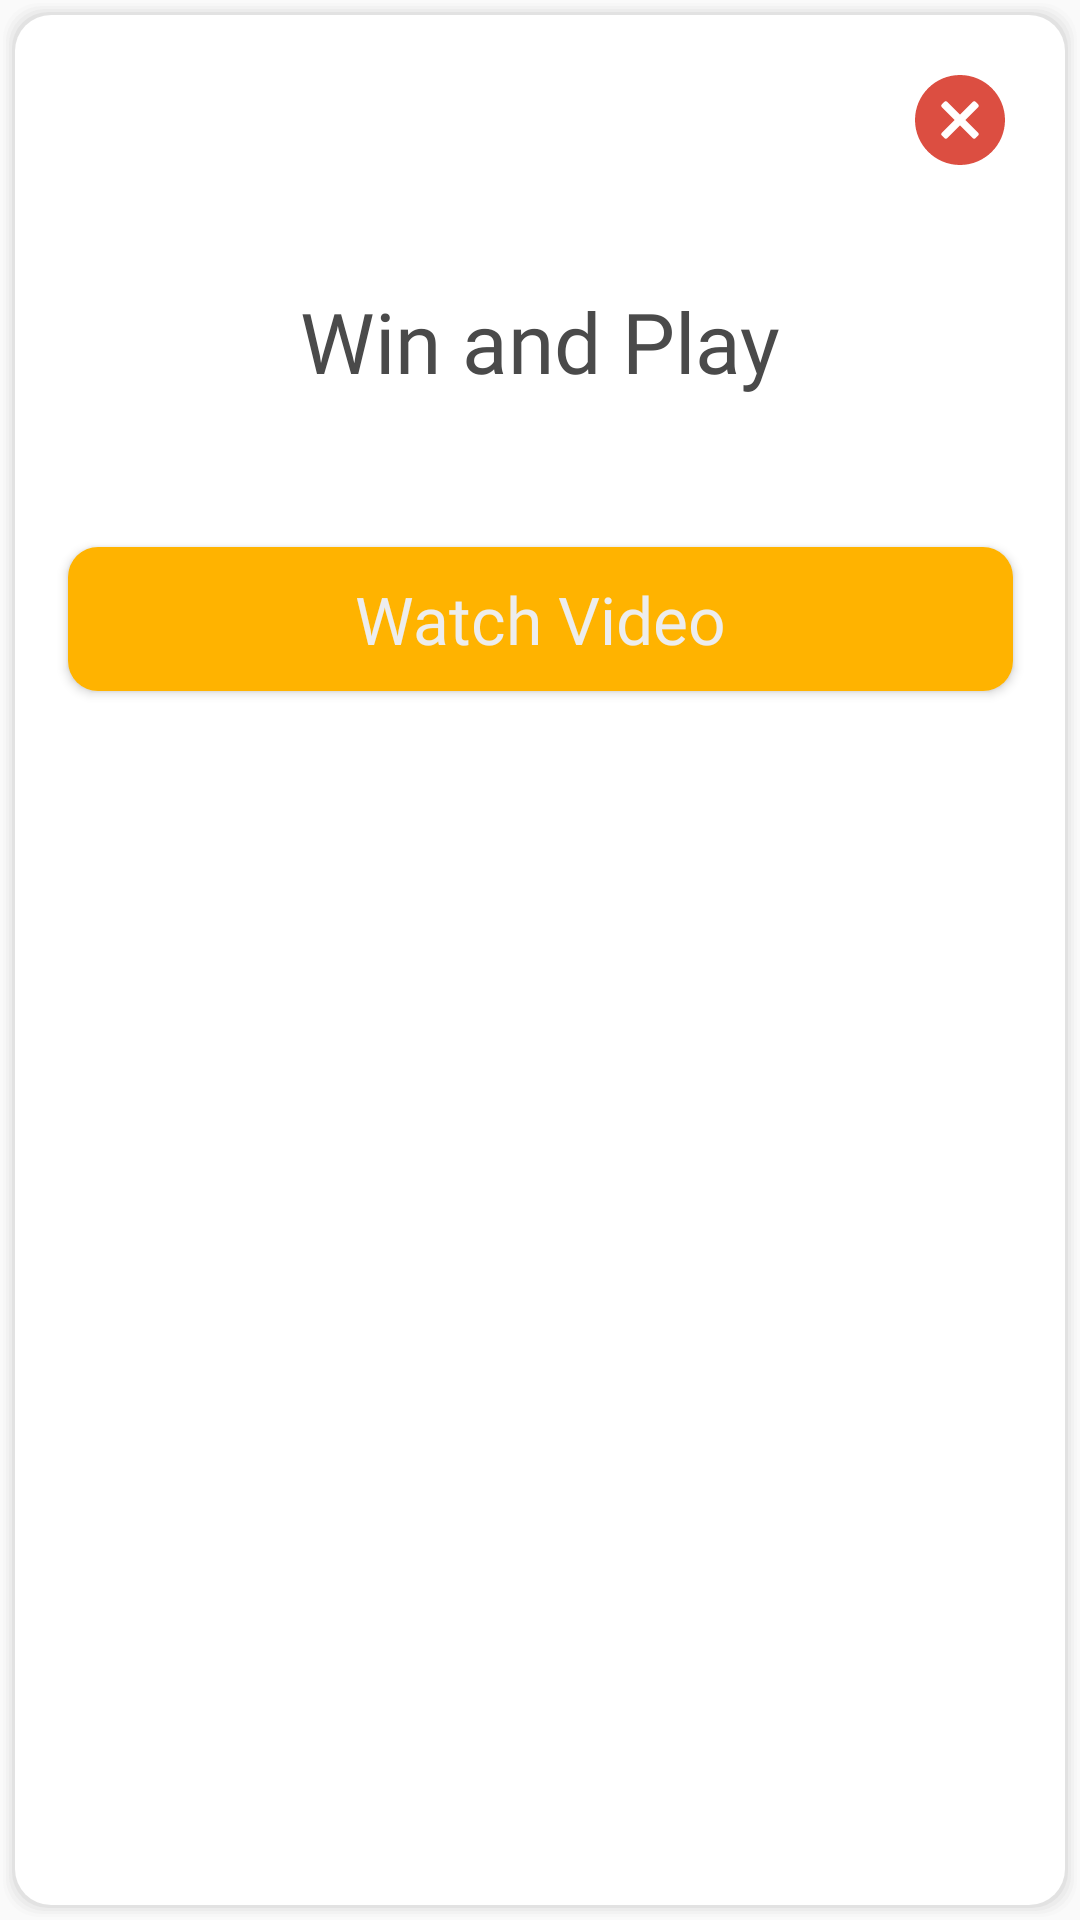

Icon click points for this 1080w x 1920h phone screenshot, format point (x, y):
false: point (960, 120)
